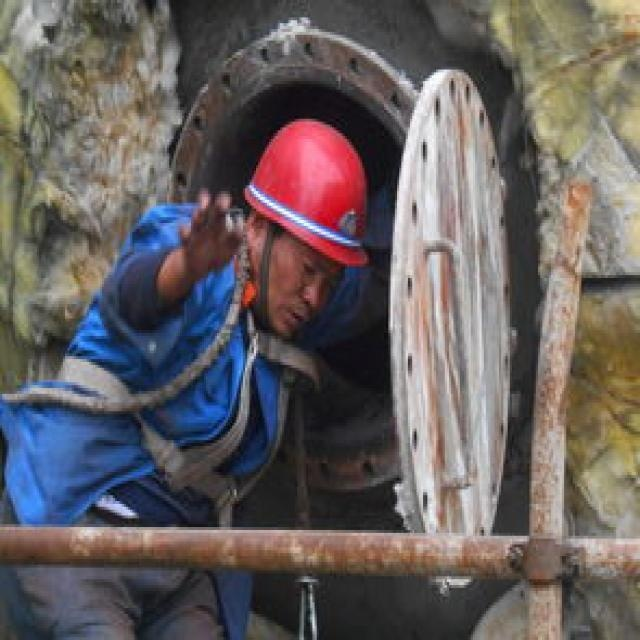Arnes_seguridad: (52, 194, 304, 507)
